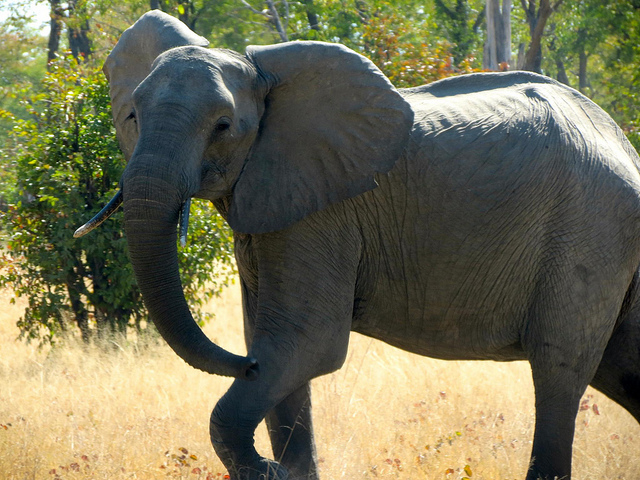elephant: (87, 8, 640, 479)
